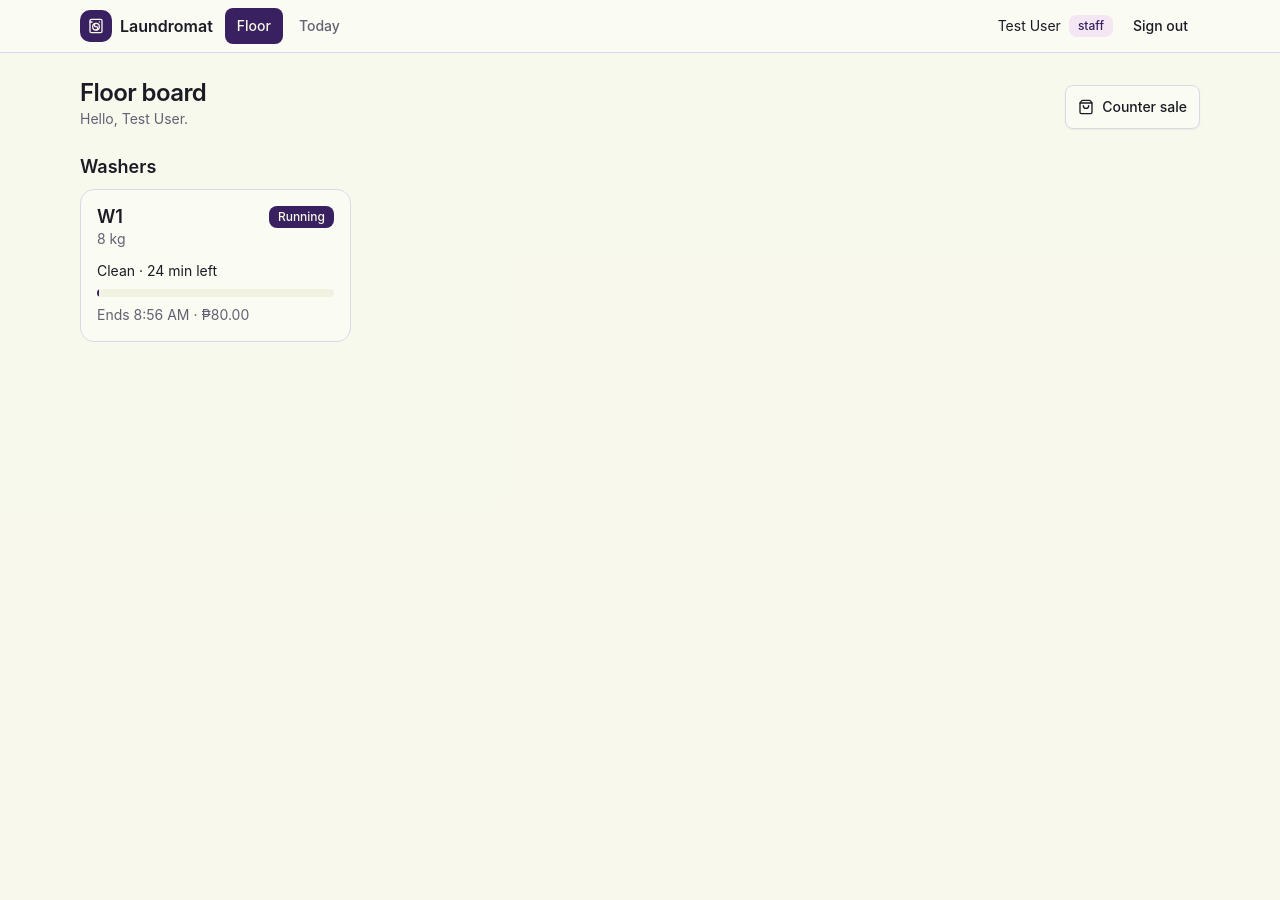
Test: Halt › needs a description when the reason is Other
Click the button with aria-label "Open ticket on W1" at (216, 292), box top-left (97, 260), bottom-right (334, 324)
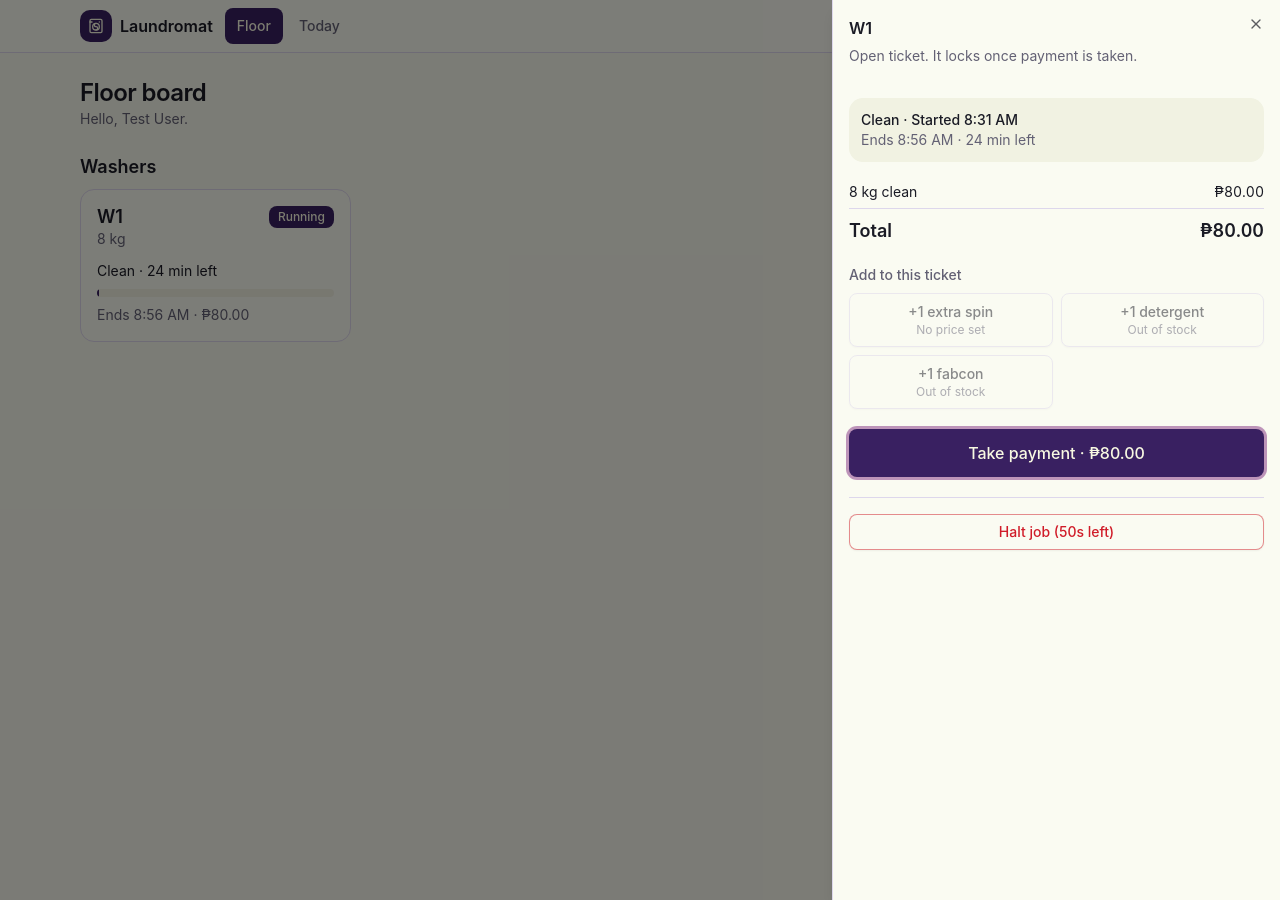
Click the button "Halt job (50s left)" at (1056, 532), box top-left (849, 514), bottom-right (1264, 550)
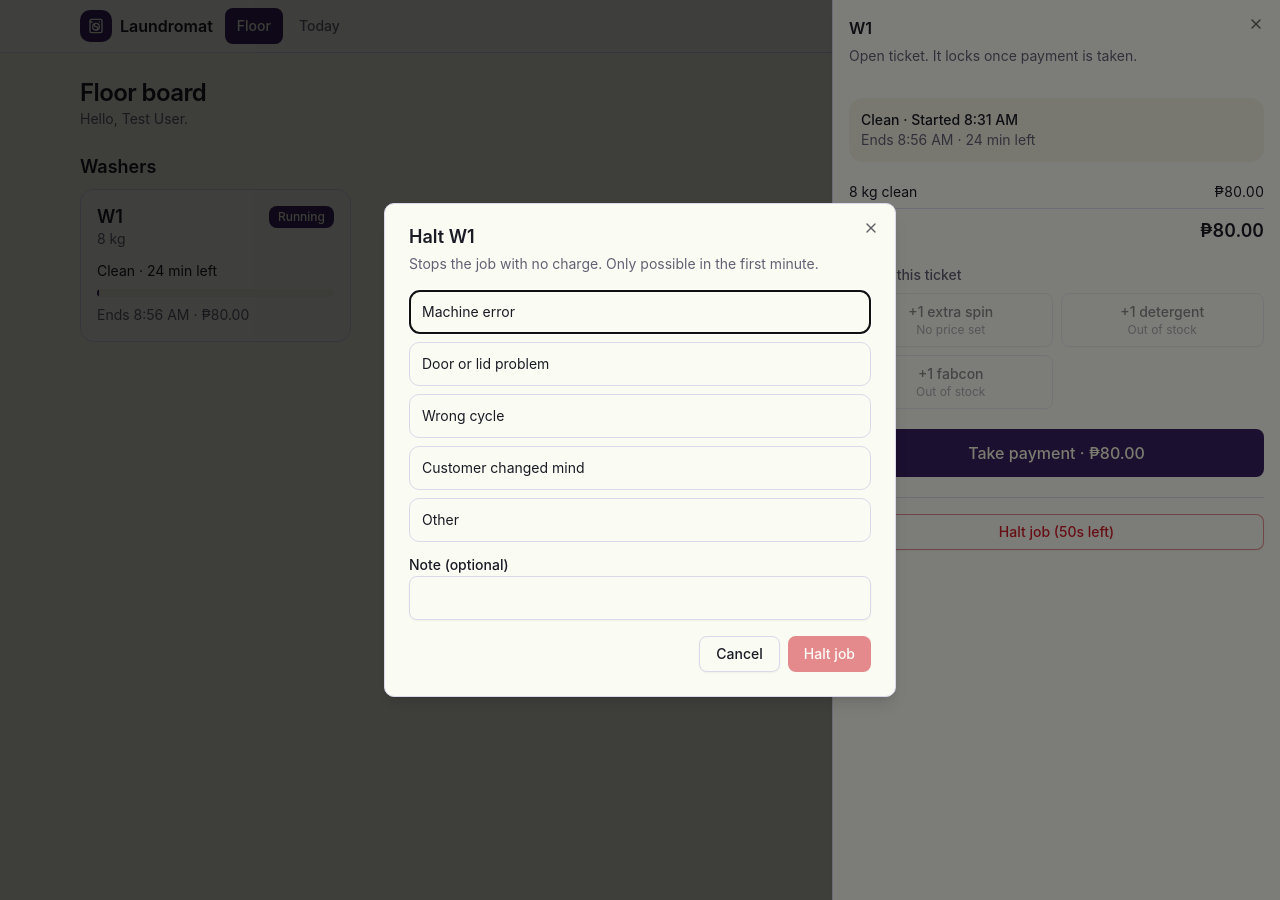
Click the radio button labelled "Other" at (440, 520), box top-left (409, 498), bottom-right (871, 542)
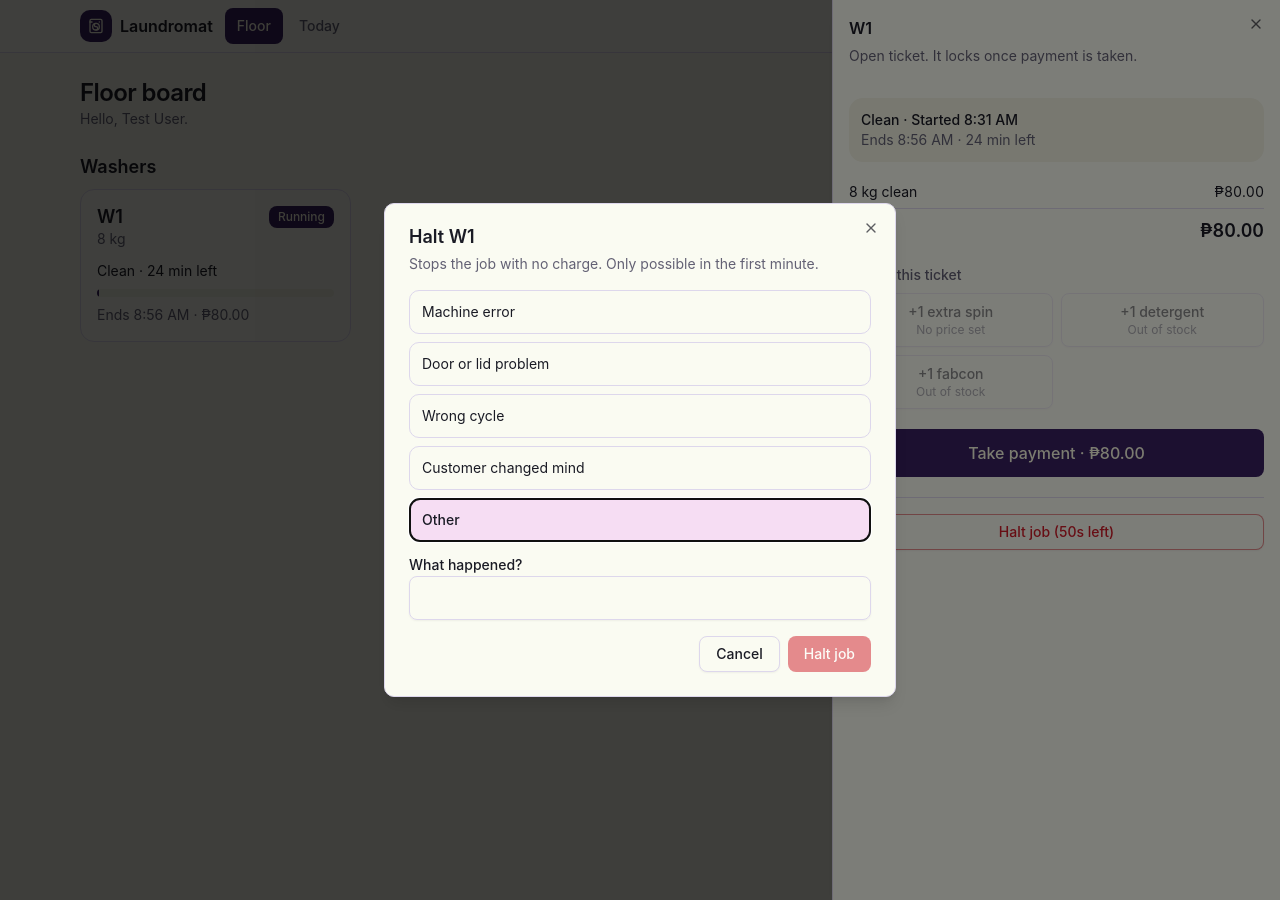
Check: the button "Halt job" is disabled, box top-left (788, 636), bottom-right (871, 672)
Type "smoke" into the field labelled "What happened?" at (640, 598), box top-left (409, 576), bottom-right (871, 620)
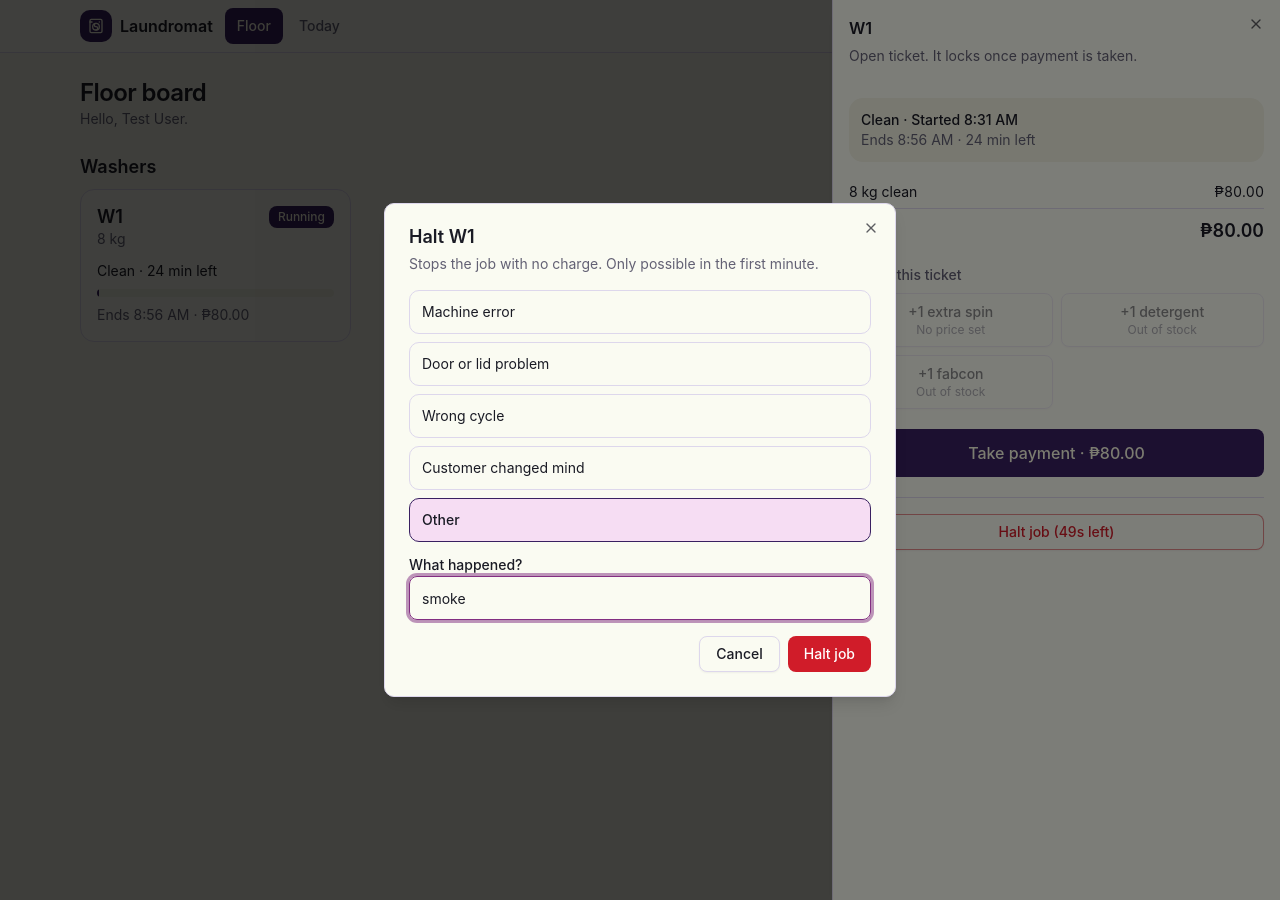
Check: the button "Halt job" is enabled, box top-left (788, 636), bottom-right (871, 672)
